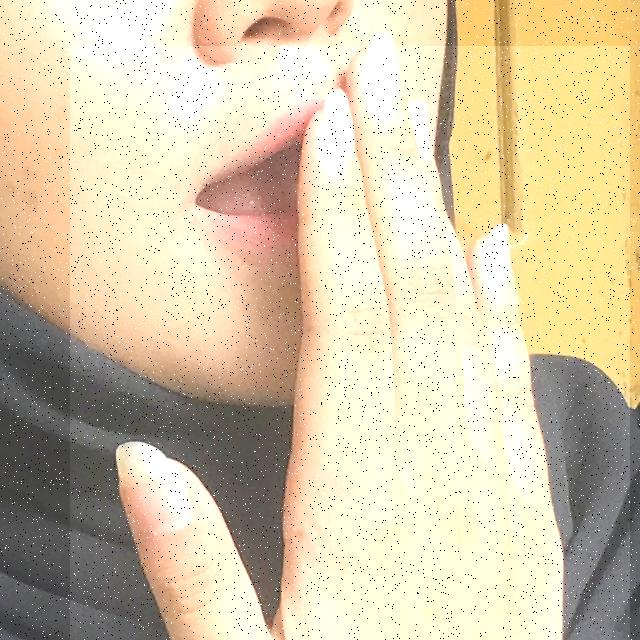ngantuk: (70, 46, 630, 640)
